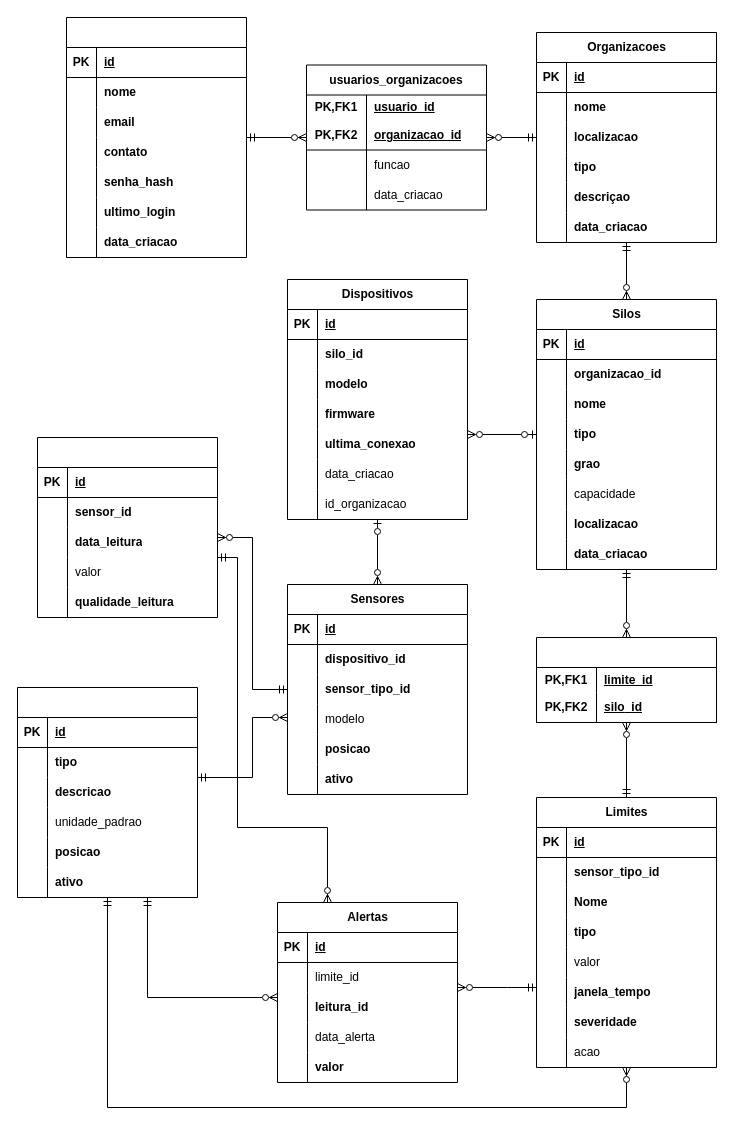
Image size: 734x1134. Some labels were removed from this diagram. The box of each missing label's shape, as (x1, y1, x2, y2) in pixels:
Leituras: (36, 436, 218, 618)
limites_silos: (536, 636, 716, 722)
Sensor_tipo: (16, 686, 198, 898)
Usuarios: (66, 16, 246, 258)
